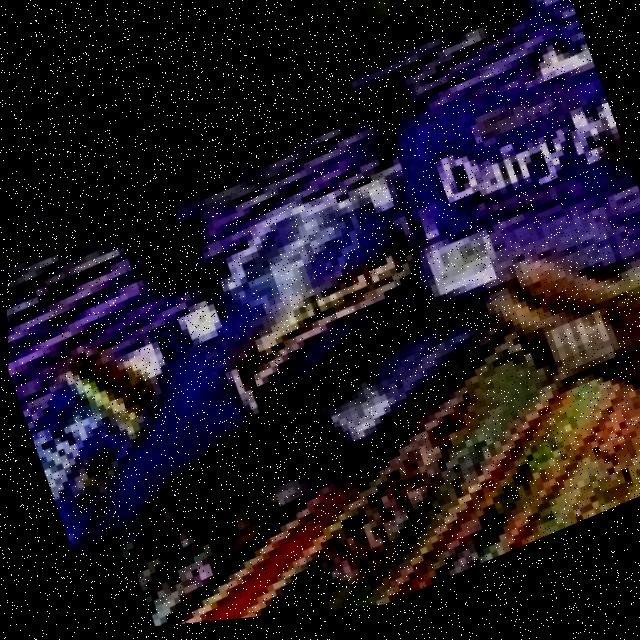cadbury: (408, 46, 633, 260)
